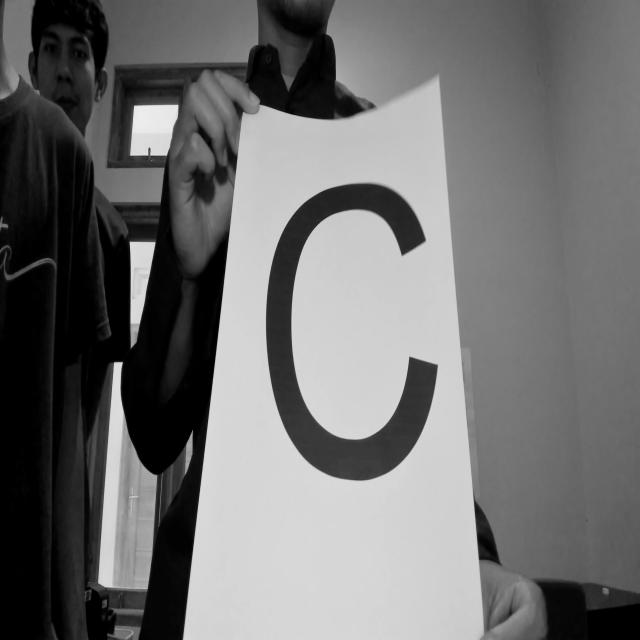c: (252, 160, 450, 505)
